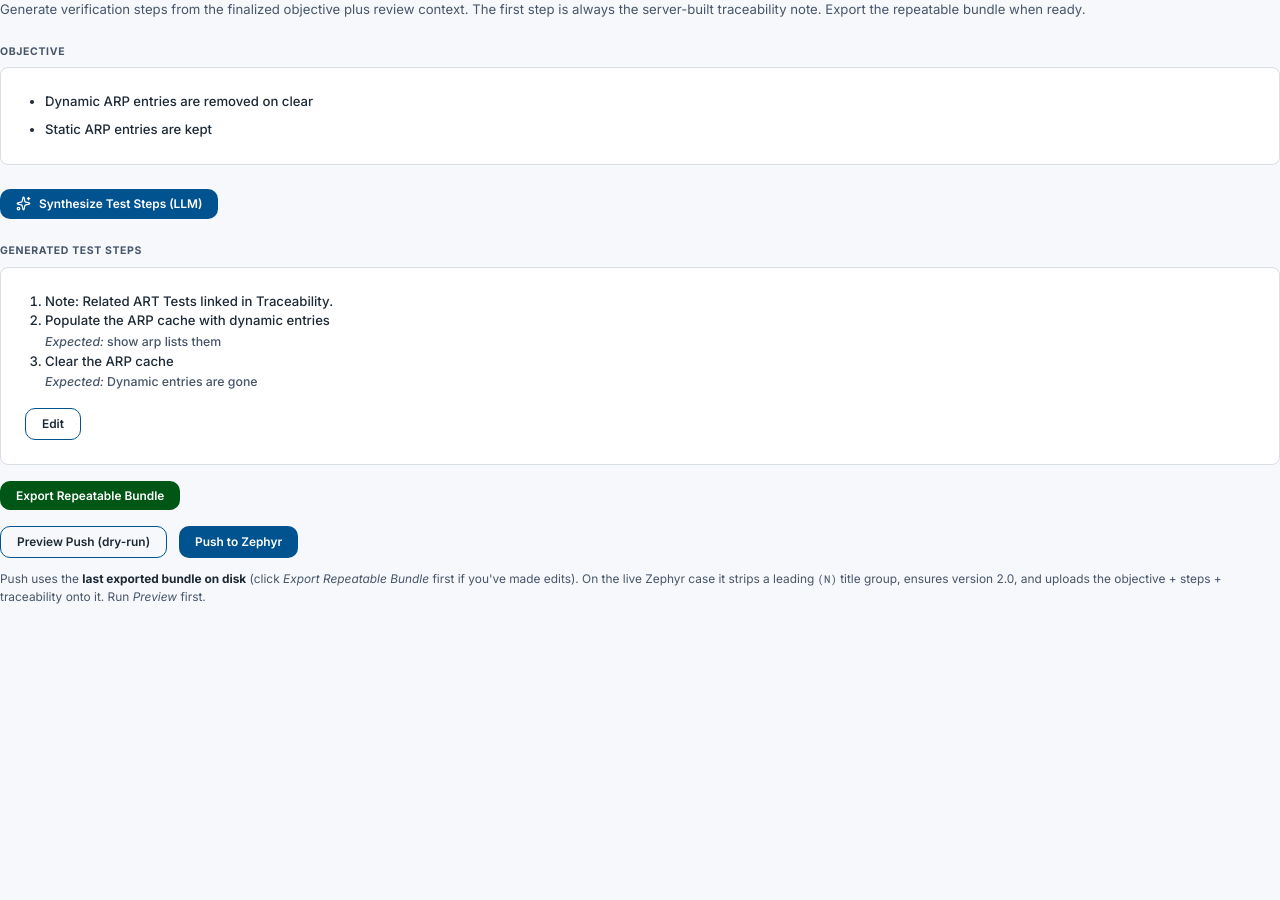
OgTestSteps › export › adds advisory warnings to the success message
Click the button "Export Repeatable Bundle" at (90,496), box [0,481,180,510]
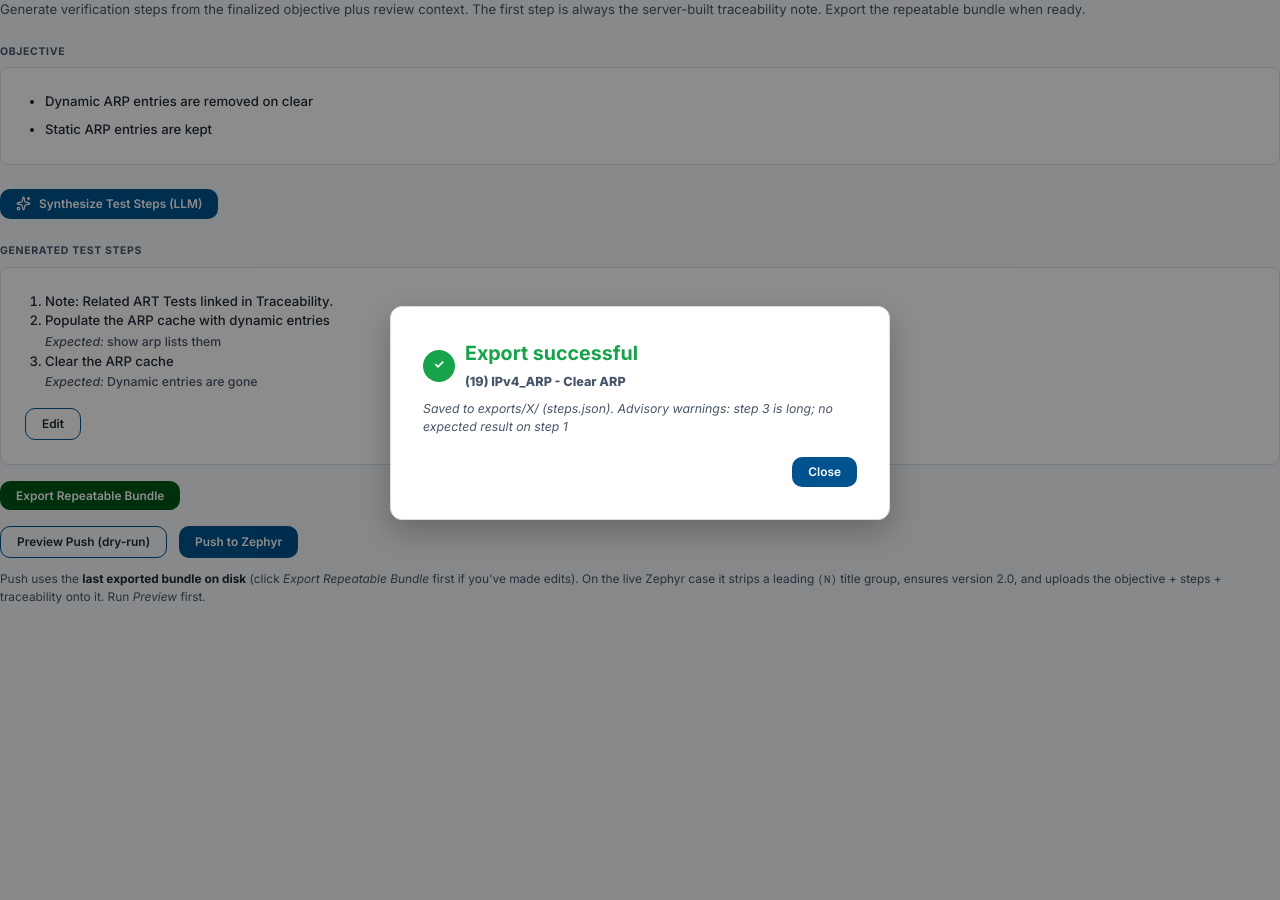
Check: the text "Advisory warnings: step 3 is long; no expected result on step 1" is shown, box [423,401,833,434]
